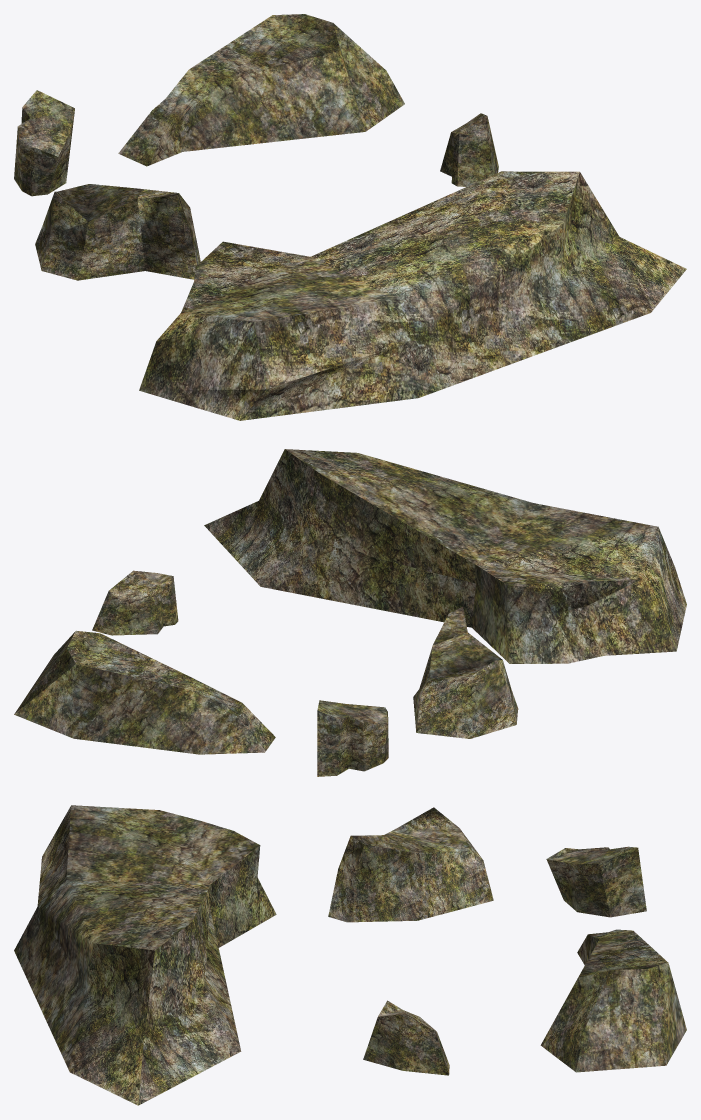
3 renders of one model, top to bottom at view 1: azimuth 30°, elevation 25°; view 2: azimuth 150°, elevation 25°; view 3: azimuth 270°, elevation 25°, orthographic. The views are drawn at different scales.
Parts seen in each view (by area): view 1: _r_grp6B; view 2: _r_grp6B; view 3: _r_grp6B.
Boxes of the visible parts, x1,y1,x2,y2 form: _r_grp6B: (14, 14, 686, 420); _r_grp6B: (14, 449, 686, 776); _r_grp6B: (14, 805, 686, 1105).
Size of the model in its own units: 16.22 by 3.34 by 18.51.
1 material, 1 textured.
